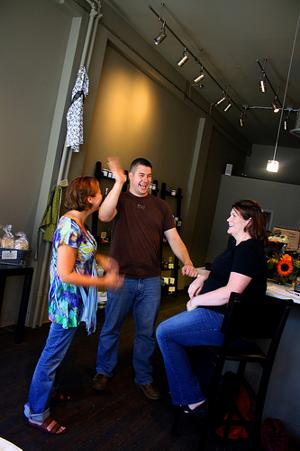person: (92, 154, 198, 402)
